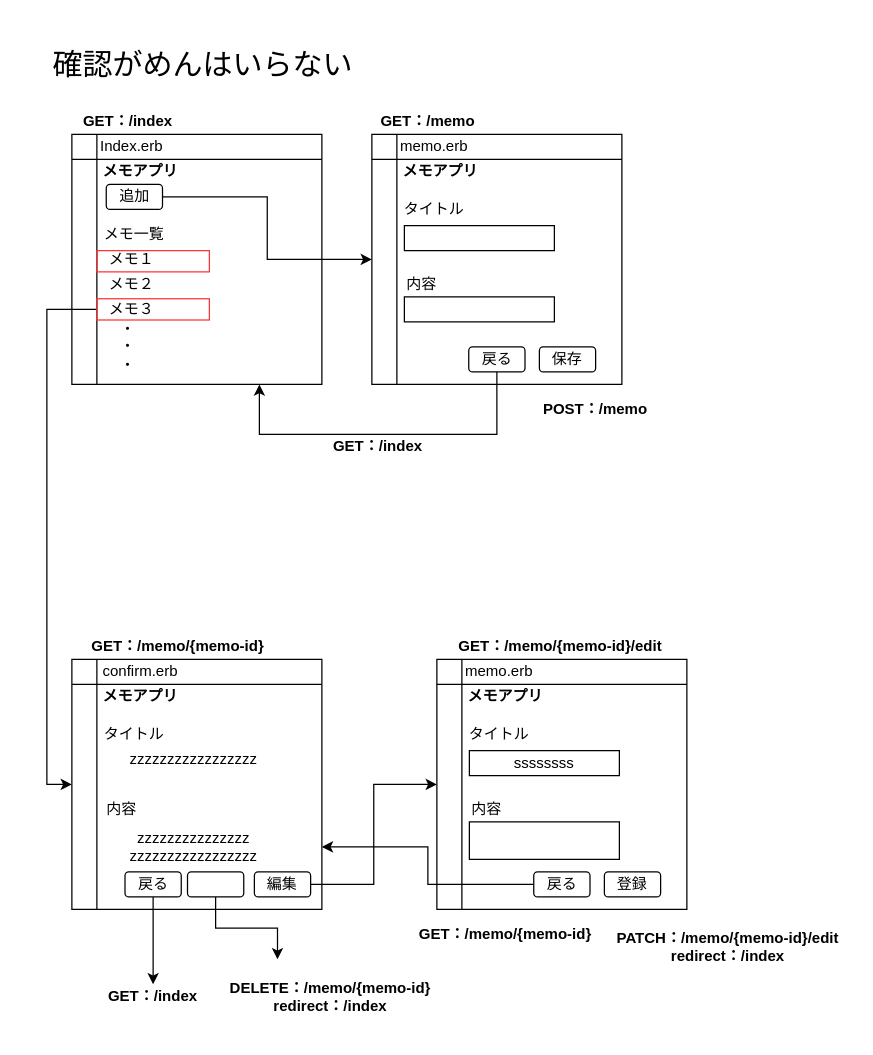
Image size: 873x1055. Some labels were removed from this diagram. Here are the shapes that lost their labels. From the top down, the centre of each, then its label:
(x=543, y=840): ssfdfsfs ssssdffrf
(x=215, y=884): 削除
